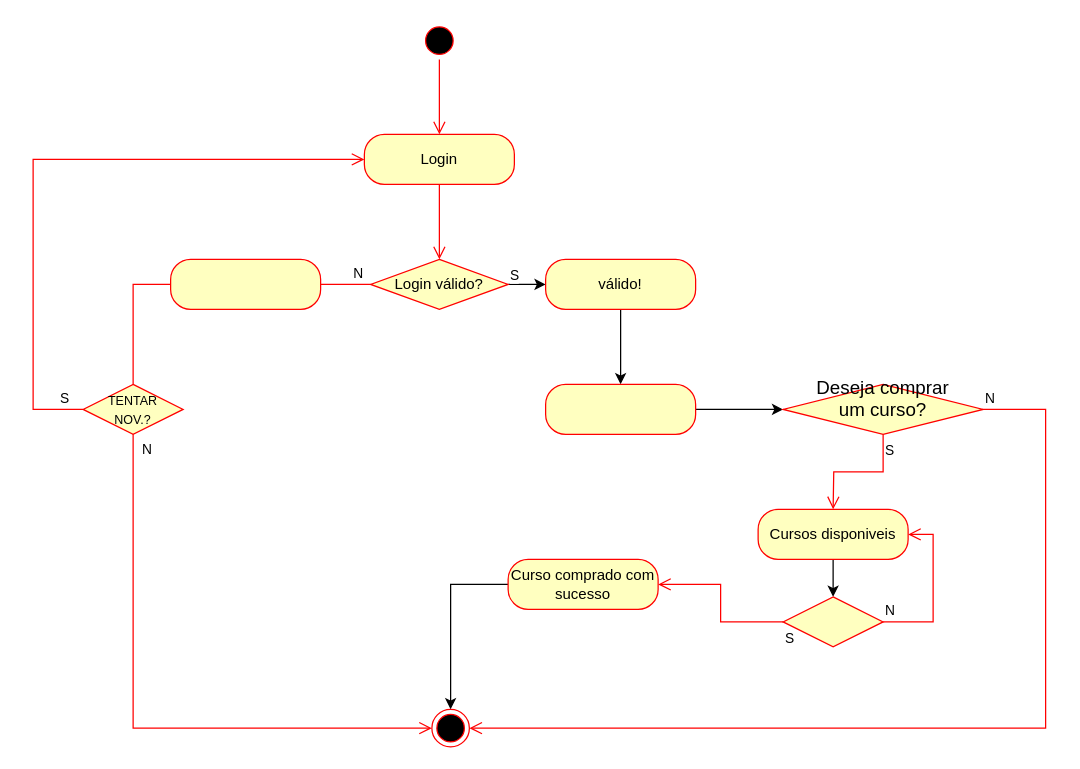
Image size: 1080x769. Some labels were removed from this diagram. The shapes that lost their labels are listed below. From the top down, each one's centre as x and y in pixels, then its label:
[245,283]: REGISTRAR LEITOR
[620,408]: Logins registrados
[832,621]: Comprar curso
